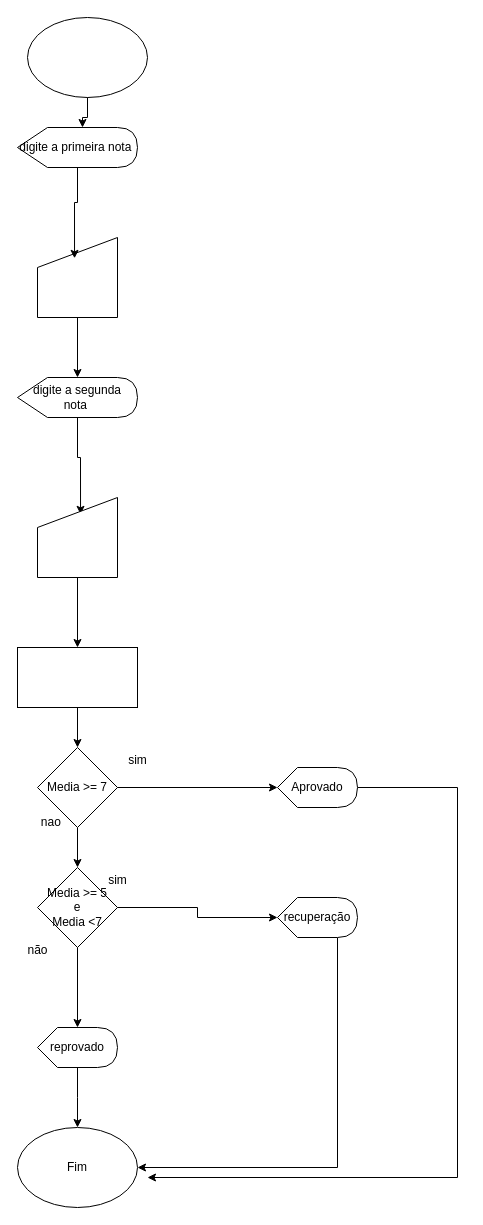
This 483x1225 diagram has some shape labels left out. The shapes that lost their labels are listed below. From the top down, each one's centre as x and y in pixels, then its label:
At point (87, 57): "Inicio".
At point (77, 277): "n1".
At point (77, 537): "n2".
At point (77, 677): "Media = (n1 + n2) / 2".
